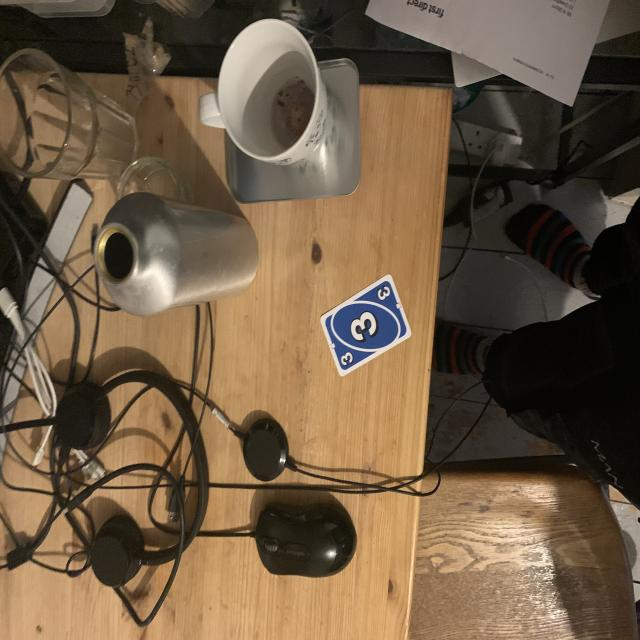lblue-3: (376, 283, 392, 304)
